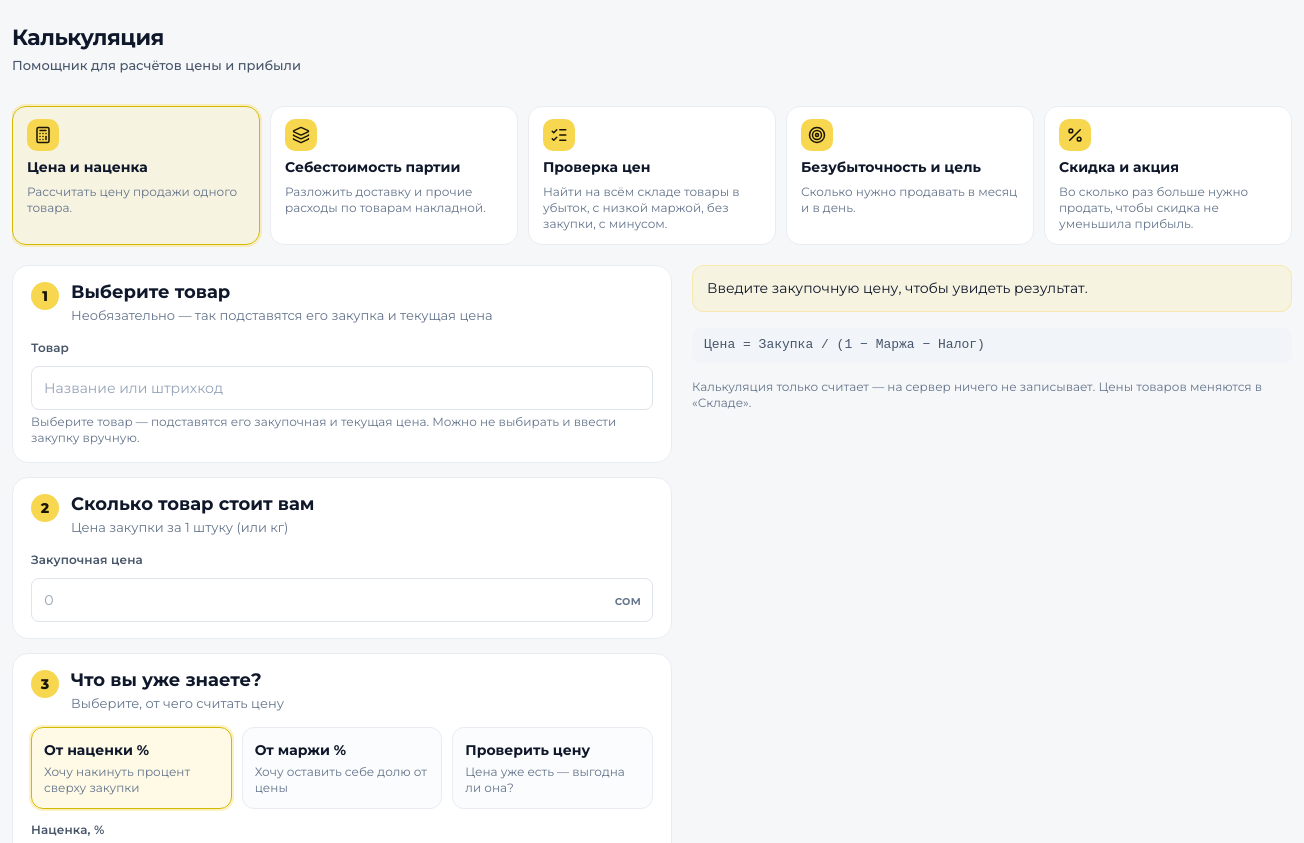
Test: ввод › отрицательная закупка — ошибка «Не меньше 0»
The width and height of the screenshot is (1304, 843).
Type "-80" into the field labelled "Закупочная цена" at [342, 600], box [31,578,653,622]
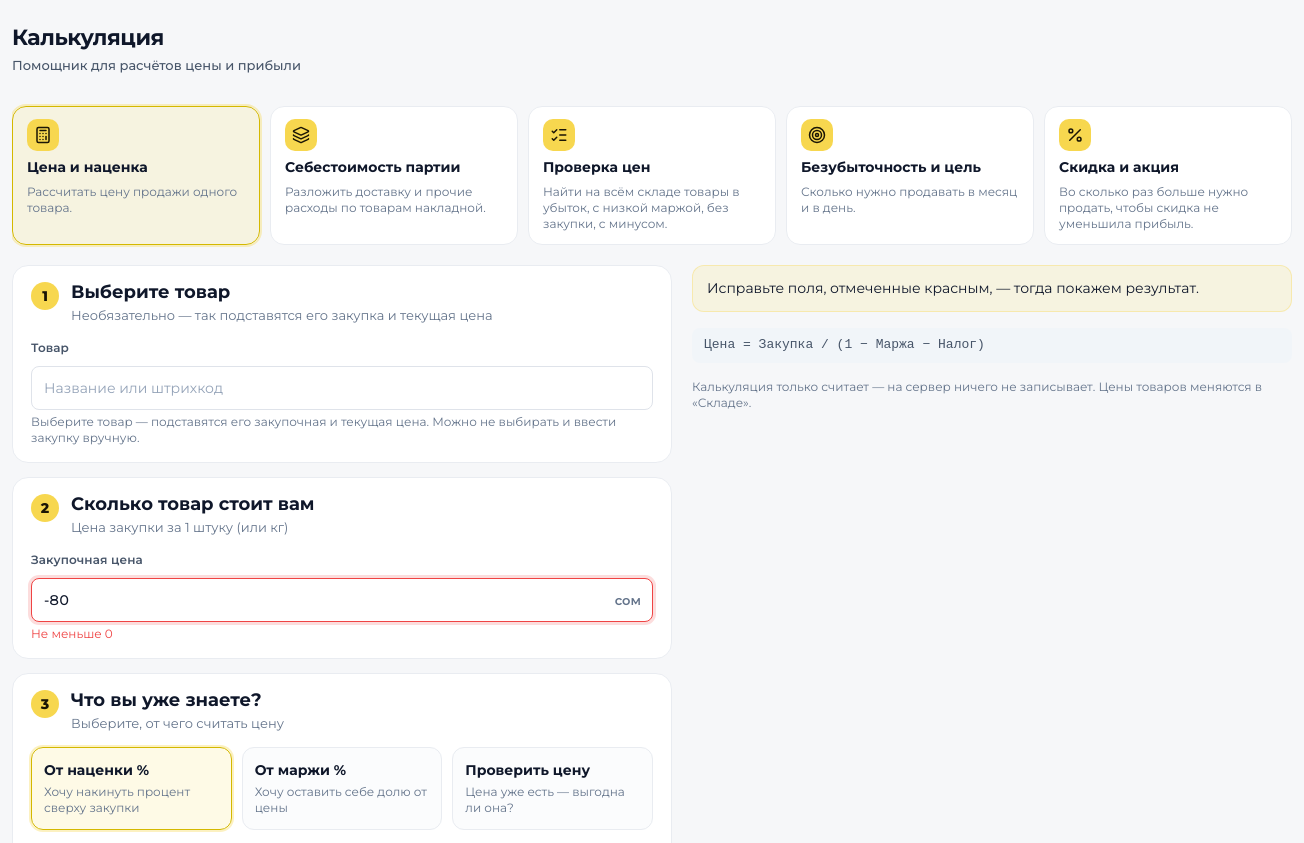
Result: the text "Не меньше 0" is shown at [31,626,113,641]
